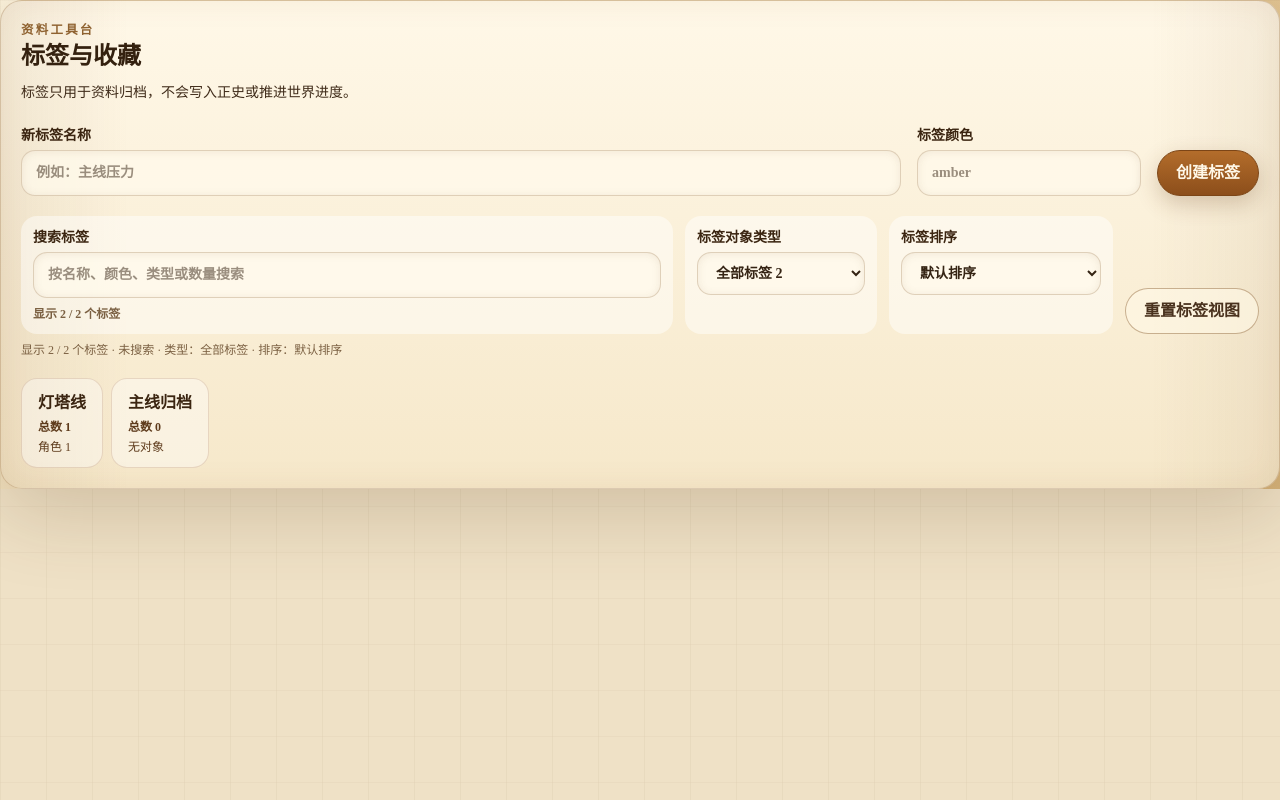
it: WorldTagsPanel › loads tags and displays selected tag detail
Expected: the heading "标签与收藏" is shown, [21, 43, 141, 69]
Expected: the text "标签只用于资料归档，不会写入正史或推进世界进度。" is shown, [21, 85, 357, 100]
Click the button with aria-label "查看 灯塔线": (62, 423) [21, 378, 103, 468]
(page scrolled)
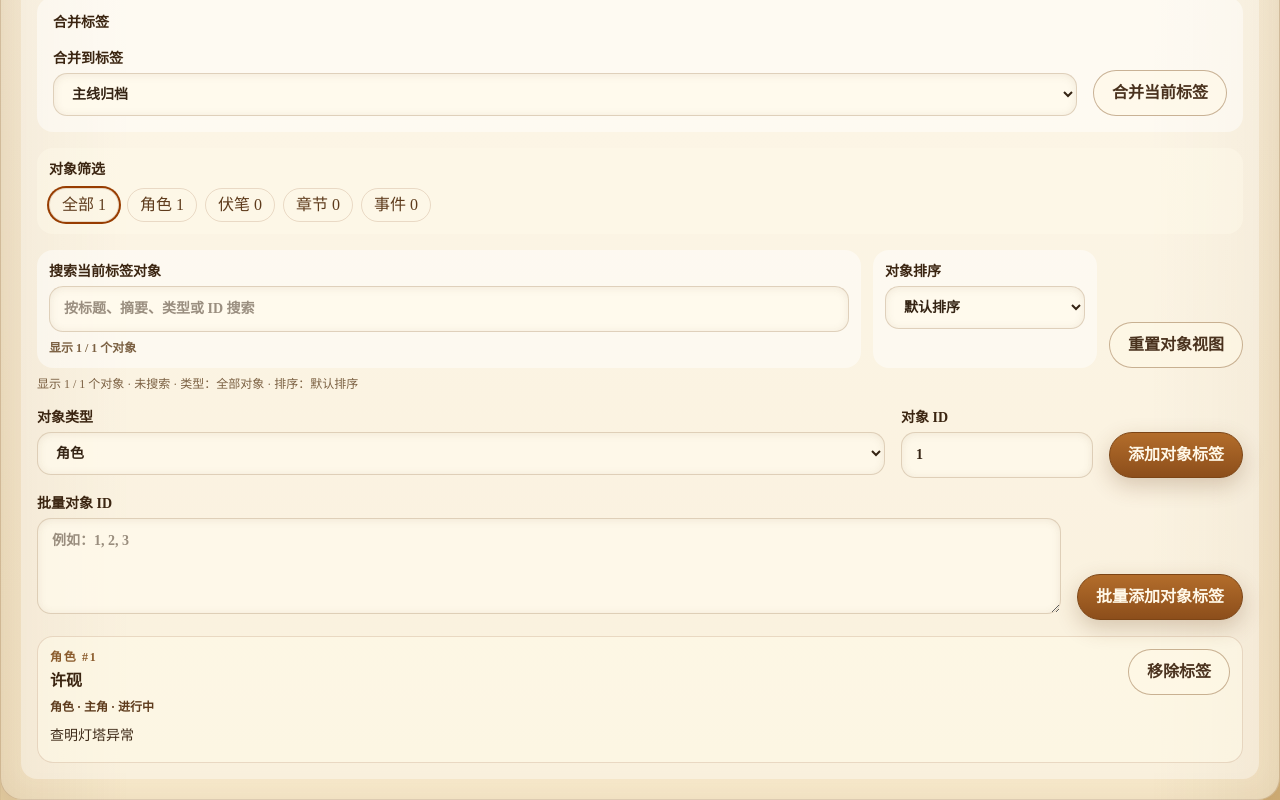
Result: the heading "许砚" is shown at [50, 672, 82, 689]
Result: the text "查明灯塔异常" is shown at [50, 728, 134, 743]
